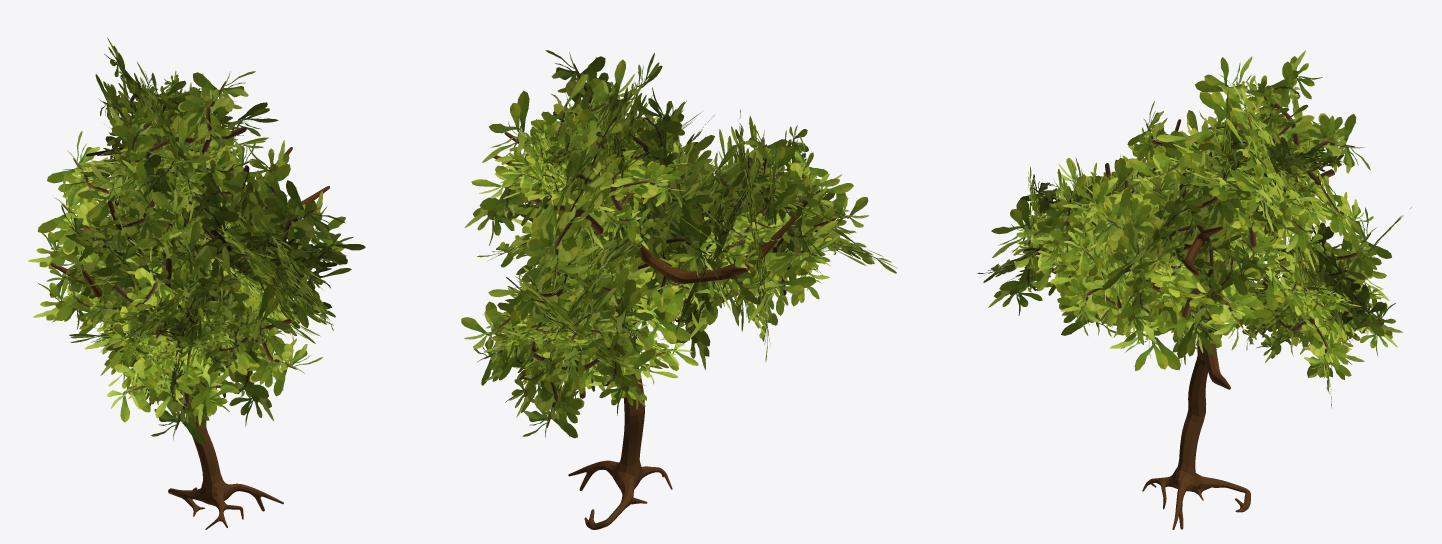
Rendered from Tree2.fbx.
3 renders of one model, left to right at view 1: azimuth 30°, elevation 25°; view 2: azimuth 150°, elevation 25°; view 3: azimuth 270°, elevation 25°, orthographic. The views are drawn at different scales.
Parts seen in each view (by area): view 1: Tree 3; view 2: Tree 3; view 3: Tree 3.
Boxes of the visible parts, x1,y1,x2,y2 form: Tree 3: [27, 37, 365, 529]; Tree 3: [461, 50, 897, 529]; Tree 3: [977, 50, 1411, 529].
Bounding box in the file's own units: 296 × 389 × 362.
